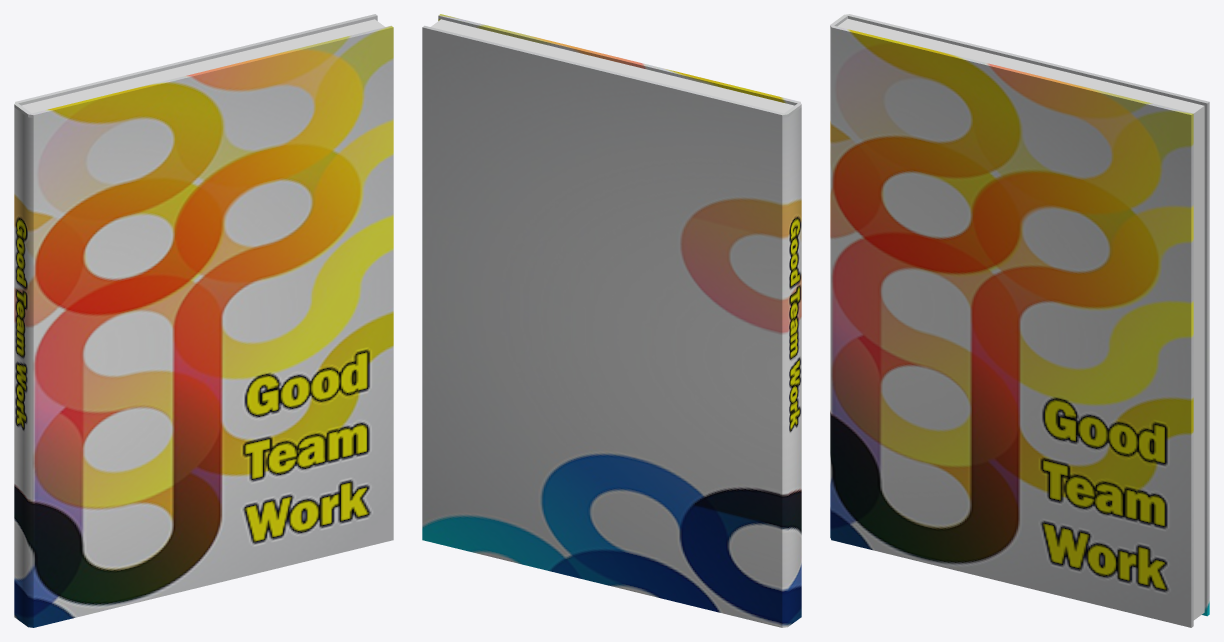
Rendered from book12.FBX.
3 renders of one model, left to right at view 1: azimuth 30°, elevation 25°; view 2: azimuth 150°, elevation 25°; view 3: azimuth 330°, elevation 25°, orthographic.
Visible parts, largest first — view 1: book12; view 2: book12; view 3: book12.
Part boxes in pixels (<box>): book12: <box>14,14,393,627</box>; book12: <box>422,14,801,627</box>; book12: <box>830,14,1209,627</box>.
Size of the model in its own units: 8.96 by 0.7802 by 12.09.
Materials: 1 (1 with a texture image).
